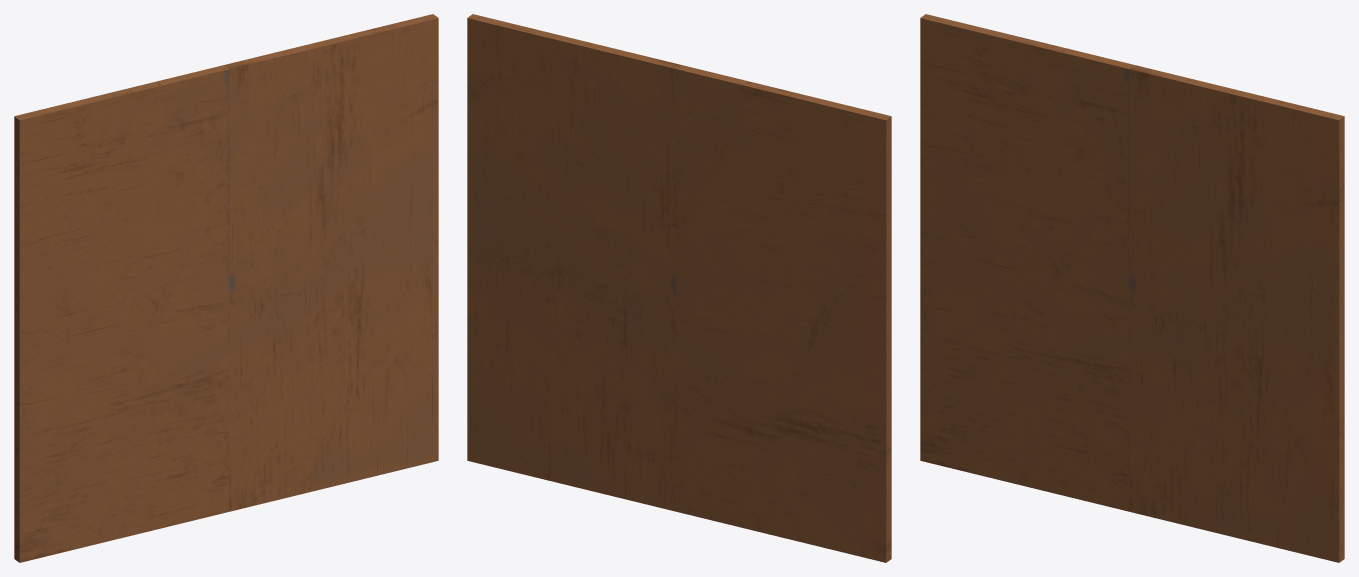
The model's file is Door_RoomWayang_2B.fbx.
3 renders of one model, left to right at view 1: azimuth 30°, elevation 25°; view 2: azimuth 150°, elevation 25°; view 3: azimuth 330°, elevation 25°, orthographic.
Visible parts, largest first — view 1: Door_RoomWayang_2A, Door_RoomWayang_2B; view 2: Door_RoomWayang_2A, Door_RoomWayang_2B; view 3: Door_RoomWayang_2B, Door_RoomWayang_2A.
Part boxes in pixels (left/top/right/bottom): Door_RoomWayang_2A: left=14, top=65, right=229, bottom=562; Door_RoomWayang_2B: left=224, top=14, right=438, bottom=511; Door_RoomWayang_2A: left=676, top=65, right=891, bottom=562; Door_RoomWayang_2B: left=467, top=14, right=681, bottom=511; Door_RoomWayang_2B: left=1129, top=65, right=1344, bottom=562; Door_RoomWayang_2A: left=920, top=14, right=1134, bottom=511.
Size of the model in its own units: 2.6 by 0.06 by 2.62.
Materials: 2 (2 with a texture image).
